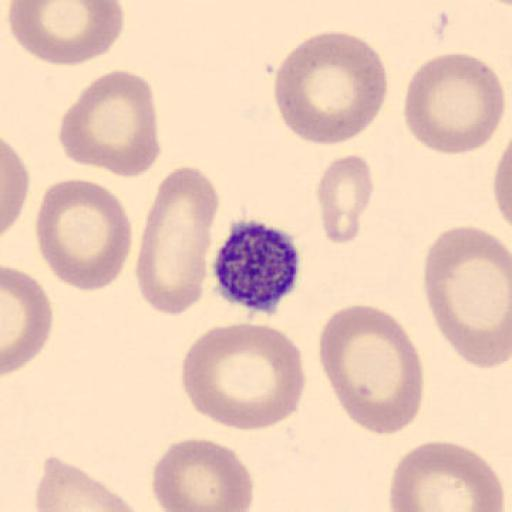Platelet: (209, 218, 304, 317)
RBC: (317, 302, 424, 436), (180, 321, 308, 432), (272, 28, 390, 147), (135, 165, 219, 319), (424, 224, 512, 370), (57, 68, 161, 179), (35, 177, 133, 294), (402, 50, 505, 156), (387, 438, 505, 512), (7, 0, 125, 68), (151, 436, 256, 512), (35, 457, 146, 512), (1, 264, 54, 375), (315, 152, 375, 247), (0, 138, 30, 239), (490, 131, 512, 229), (492, 149, 512, 226)
